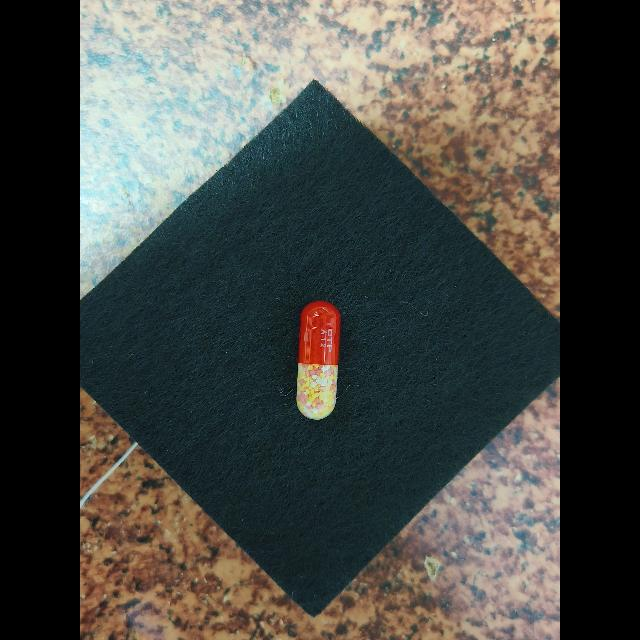Intact Capsule: (297, 301, 341, 419)
